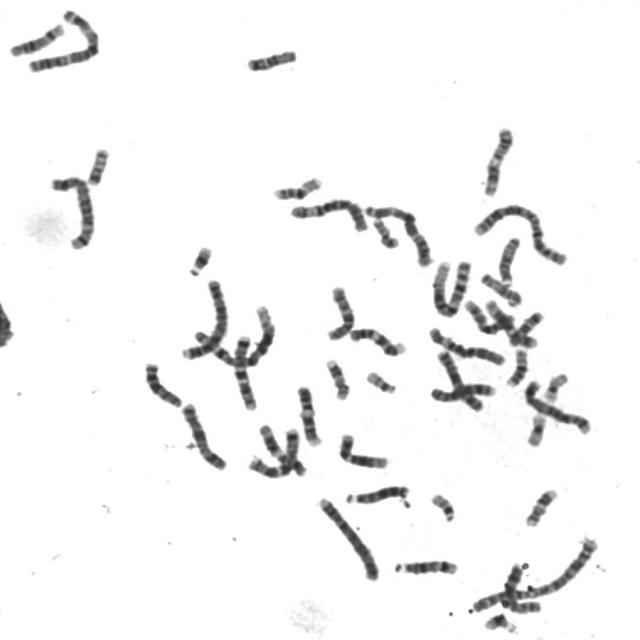A1: (182, 301, 277, 368), (426, 255, 474, 318)
A2: (466, 532, 603, 615), (469, 199, 571, 267)
A3: (23, 4, 103, 74), (360, 199, 434, 269)
B4: (312, 492, 382, 583), (168, 282, 240, 365)
B5: (520, 375, 594, 436), (44, 170, 98, 251)
C10: (460, 294, 516, 336), (321, 280, 356, 342)
C11: (244, 422, 302, 479), (477, 122, 515, 198)
C12: (480, 295, 540, 349), (333, 429, 391, 471)
C6: (423, 322, 508, 367), (284, 193, 370, 233)
C7: (242, 422, 301, 480), (228, 330, 260, 412)
C8: (491, 558, 548, 622), (424, 378, 499, 404)
C9: (291, 381, 324, 448), (344, 323, 408, 357)
D13: (138, 356, 184, 409), (341, 480, 411, 506)
D14: (4, 18, 67, 58), (389, 554, 460, 578)
D15: (475, 267, 524, 308), (493, 232, 523, 286)
E16: (267, 170, 325, 202), (501, 344, 530, 388)
E17: (520, 484, 560, 528), (320, 354, 352, 402)
E18: (504, 306, 550, 348), (240, 44, 299, 73)
F19: (538, 367, 571, 404), (521, 409, 549, 448)
F20: (81, 142, 112, 187), (366, 212, 402, 250)
G21: (182, 240, 215, 277), (478, 609, 520, 635)
G22: (425, 489, 458, 523), (361, 366, 399, 395)
X: (430, 346, 487, 416), (176, 398, 229, 472)
